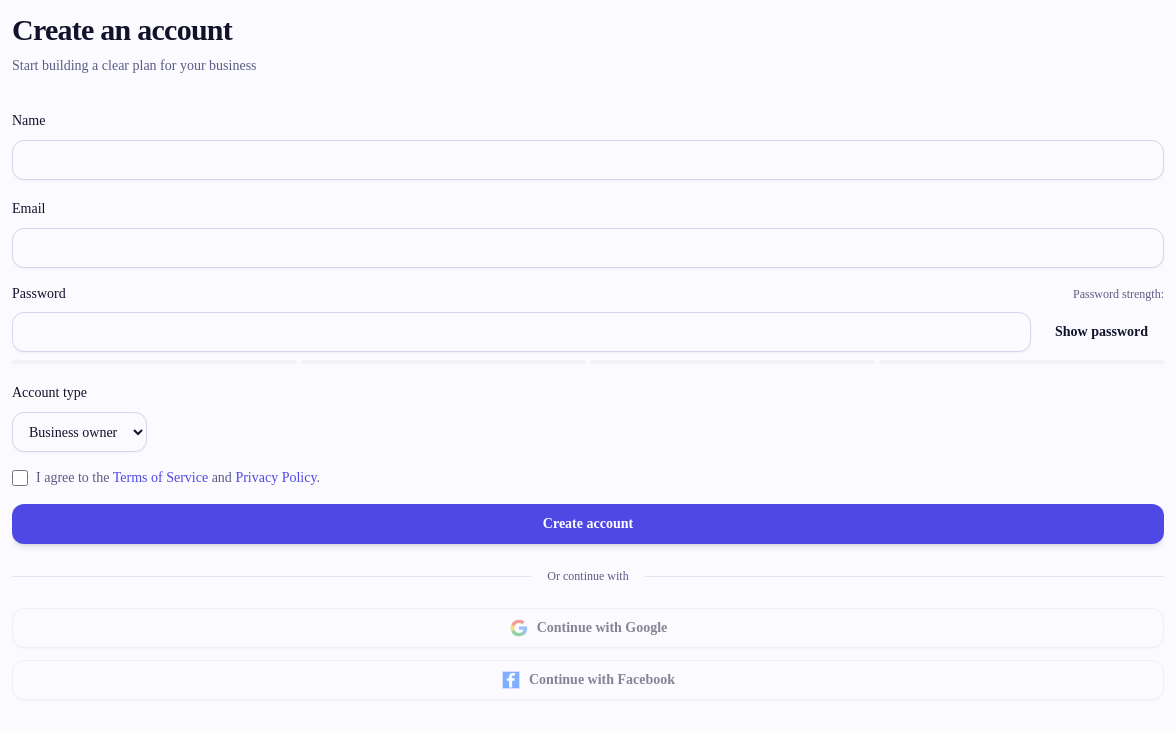
Test: signup form › shows a translated server error when the email is already registered
The image size is (1176, 731).
Type "Restaurant Owner" into the field labelled "Name".
click(588, 160); type("Restaurant Owner")  # box 12,140 -> 1164,180
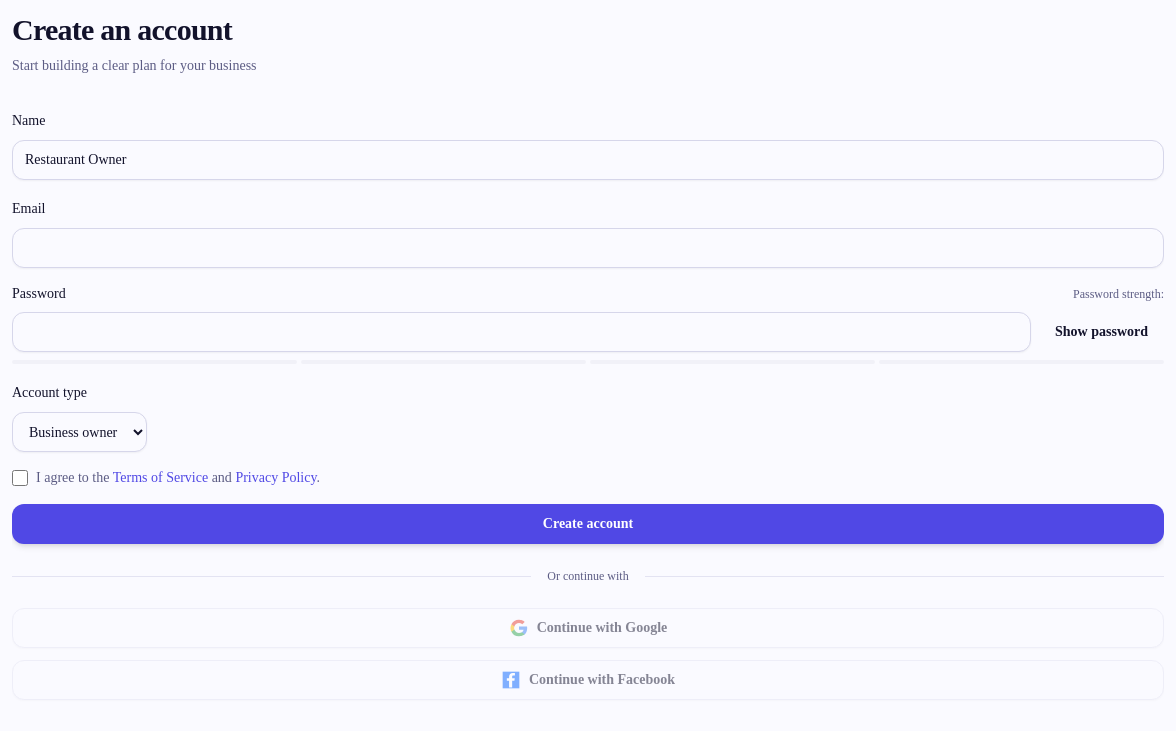
Type "owner@example.com" into the field labelled "Email".
click(588, 248); type("owner@example.com")  # box 12,228 -> 1164,268
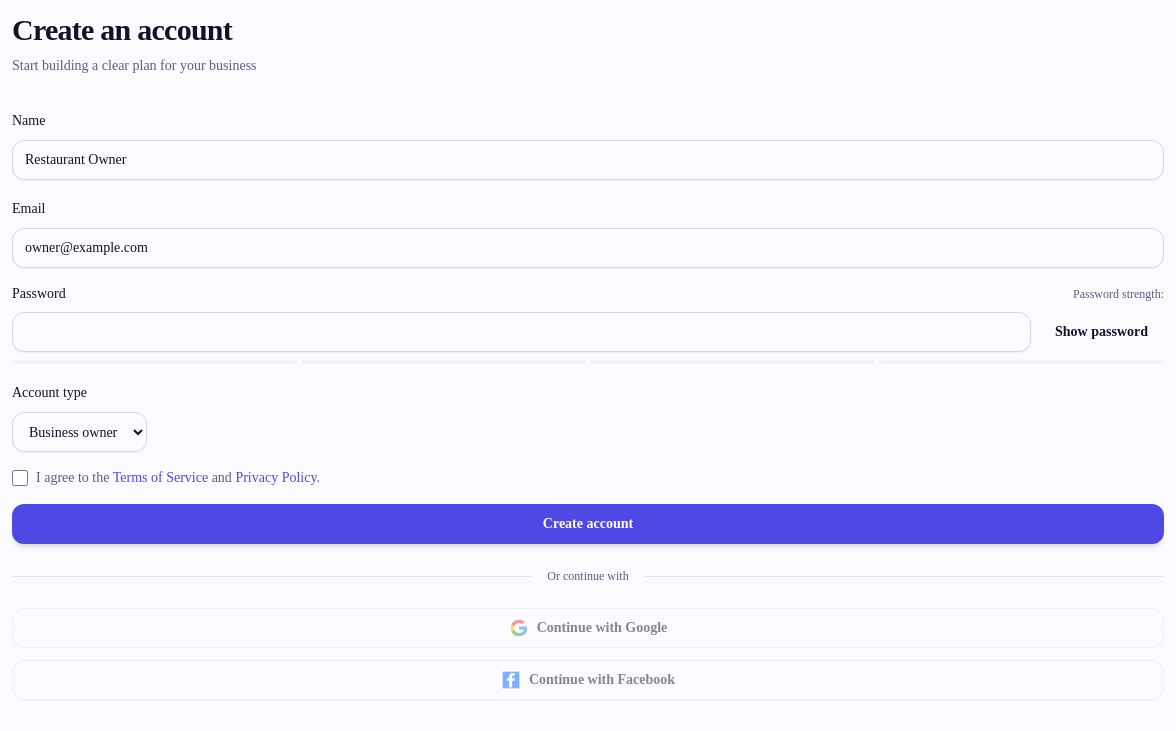
Type "StrongPass123!" into the password field labelled "Password".
click(522, 332); type("StrongPass123!")  # box 12,312 -> 1031,352
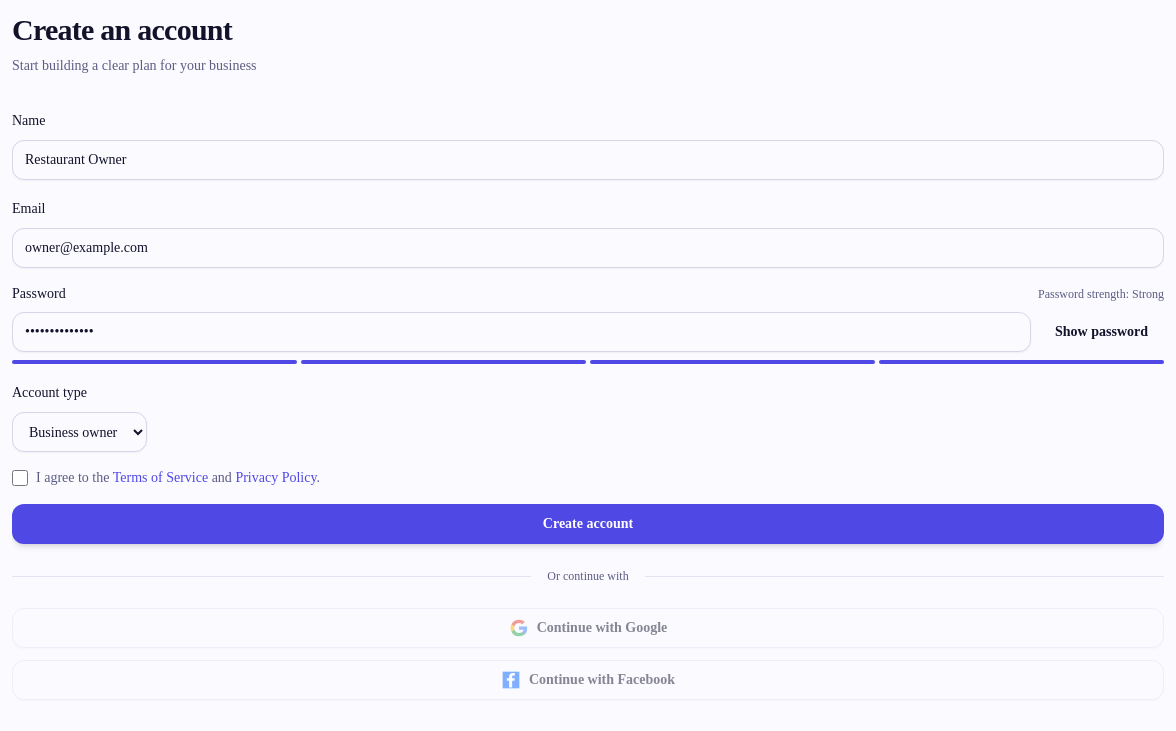
Click the checkbox labelled "I agree to the Terms of Service and Privacy Policy .".
click(20, 478)  # box 12,470 -> 28,486
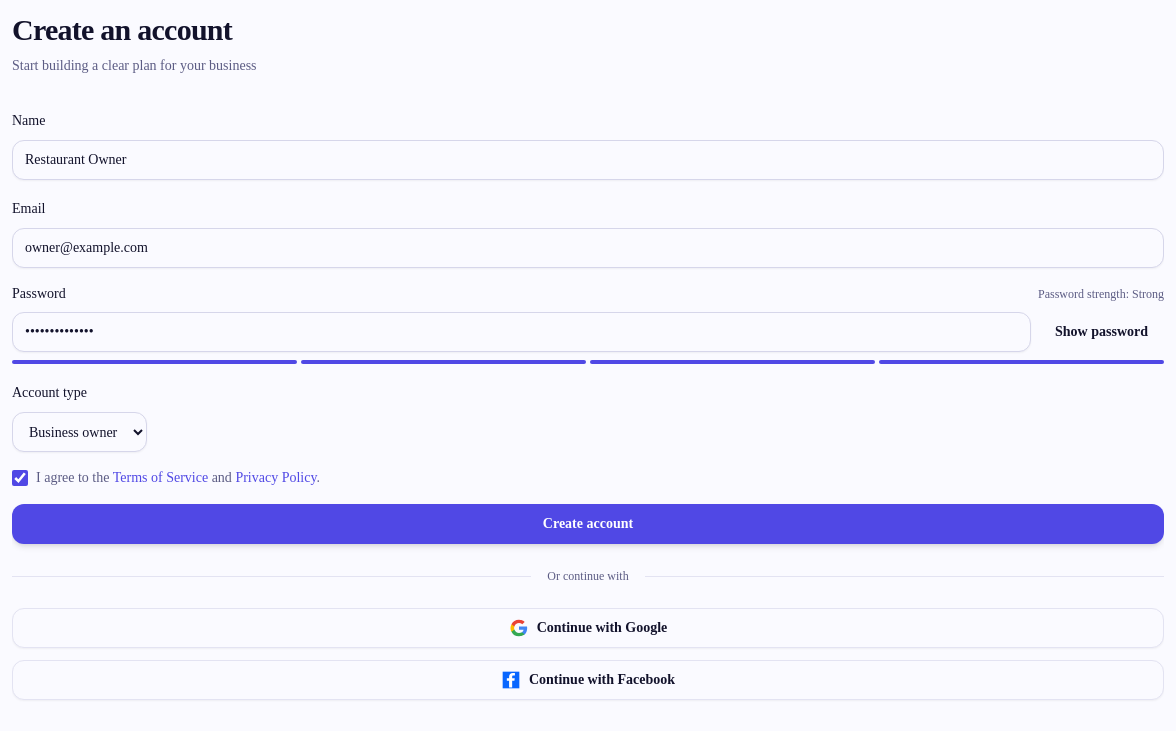
Click the button "Create account".
click(588, 524)  # box 12,504 -> 1164,544
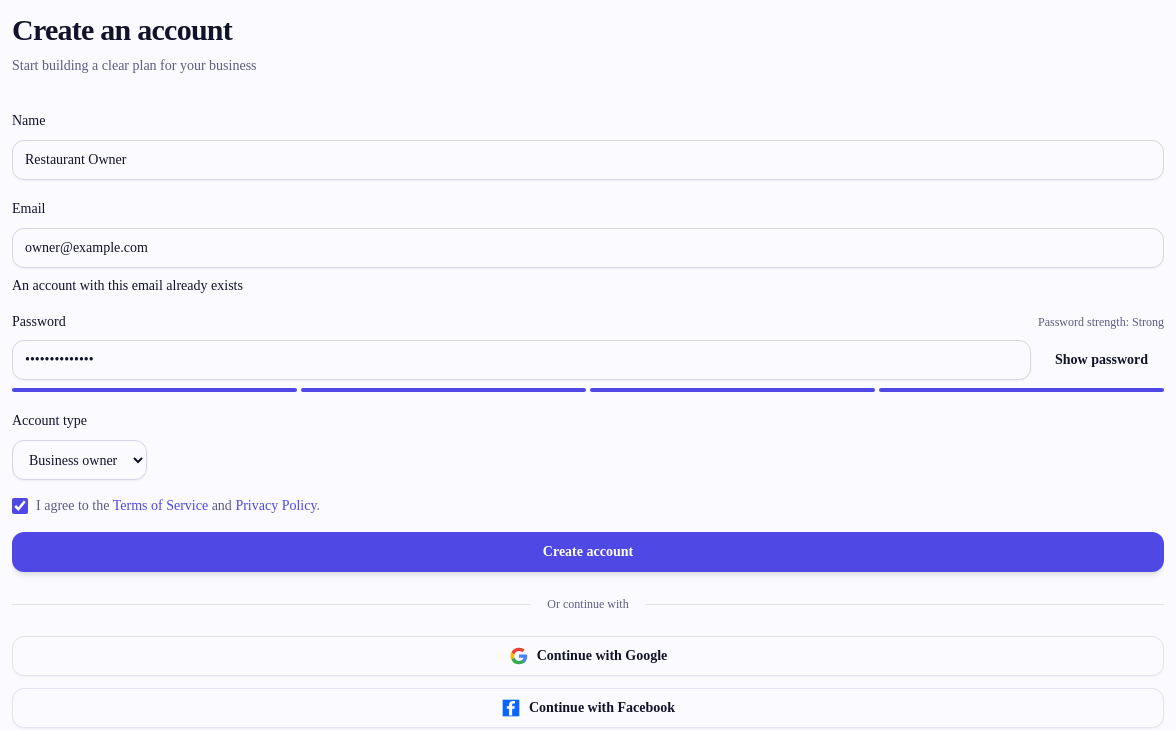
Result: the text "An account with this email already exists" is shown at 12,278 -> 243,293
